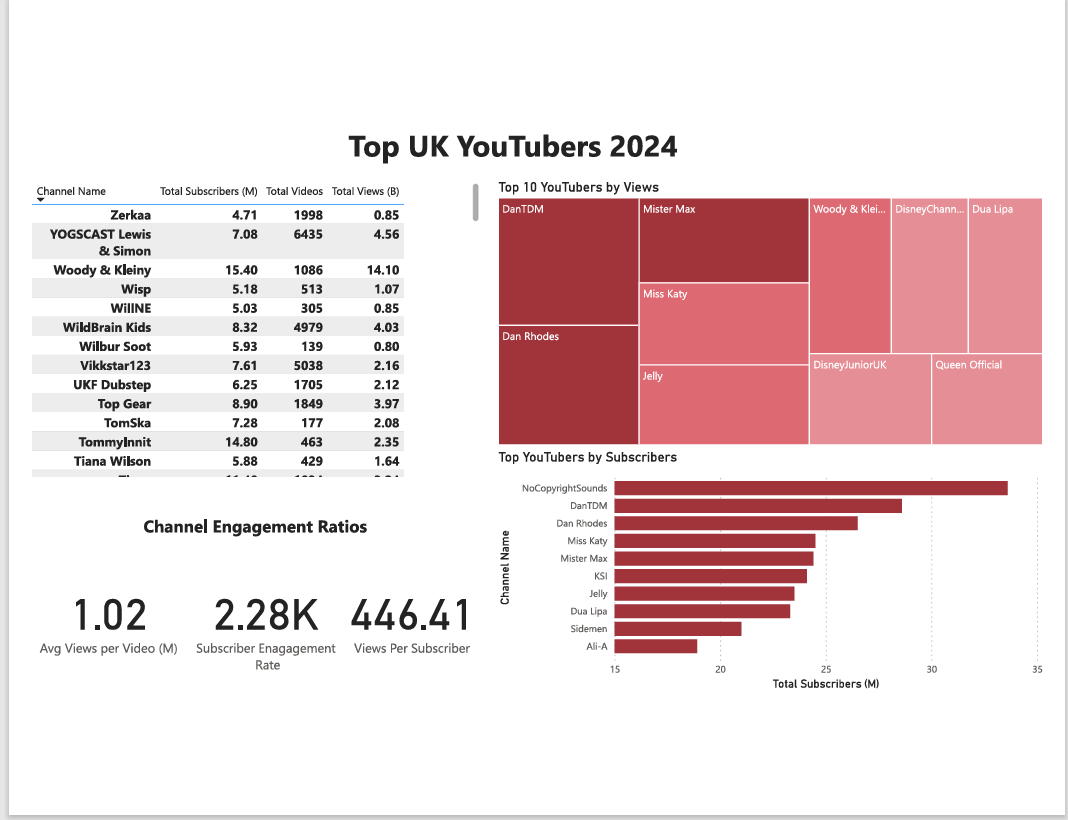

What the dashboard file says about the page in this screenshot:
{"tool":"powerbi","page":{"name":"Page 1","canvas":[1280,720],"ordinal":0},"visuals":[{"type":"textbox","box":[309.7,0,599,72.8],"z":0},{"type":"tableEx","fields":{"Values":["view_uk_youtubers_2024.channel_name","view_uk_youtubers_2024.Total Subscribers (M)","view_uk_youtubers_2024.Total Videos","view_uk_youtubers_2024.Total Views (B)"]},"box":[0,72.8,572.3,379.5],"z":1},{"type":"treemap","title":"Top 10 YouTubers by Views","fields":{"Values":["view_uk_youtubers_2024.Total Views (B)"],"Details":["view_uk_youtubers_2024.channel_name"]},"box":[585.6,72.8,694.4,339.5],"z":2},{"type":"card","fields":{"Values":["view_uk_youtubers_2024.Avg Views per Video (M)"]},"box":[0,527.2,203.1,192.8],"z":3},{"type":"card","fields":{"Values":["view_uk_youtubers_2024.Views Per Subscriber"]},"box":[379.5,527.2,206.2,192.8],"z":4},{"type":"card","fields":{"Values":["view_uk_youtubers_2024.Subscriber Enagagement Rate"]},"box":[203.1,527.2,191.8,192.8],"z":5},{"type":"clusteredBarChart","title":"Top YouTubers by Subscribers","fields":{"Category":["view_uk_youtubers_2024.channel_name"],"Y":["view_uk_youtubers_2024.Total Subscribers (M)"]},"box":[585.6,412.3,694.4,307.7],"z":6},{"type":"textbox","box":[111.8,489.2,347.7,53.3],"z":7}]}

Visuals, with their boxes on the page's 1280x720 design canvas (x1, y1, x2, y2). These are canvas units, not pixel positions in the 1068x820 screenshot, which may show the page scaled, cropped or inside an application window:
textbox: (x1=310, y1=0, x2=909, y2=73)
tableEx - view_uk_youtubers_2024.channel_name x view_uk_youtubers_2024.Total Subscribers (M): (x1=0, y1=73, x2=572, y2=452)
"Top 10 YouTubers by Views" treemap: (x1=586, y1=73, x2=1280, y2=412)
card - view_uk_youtubers_2024.Avg Views per Video (M): (x1=0, y1=527, x2=203, y2=720)
card - view_uk_youtubers_2024.Views Per Subscriber: (x1=380, y1=527, x2=586, y2=720)
card - view_uk_youtubers_2024.Subscriber Enagagement Rate: (x1=203, y1=527, x2=395, y2=720)
"Top YouTubers by Subscribers" clusteredBarChart: (x1=586, y1=412, x2=1280, y2=720)
textbox: (x1=112, y1=489, x2=460, y2=542)
